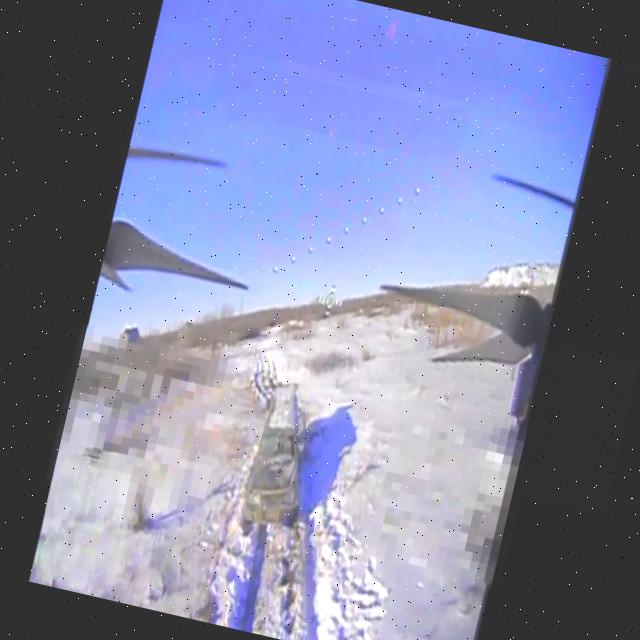Vehicle: (234, 376, 326, 541)
